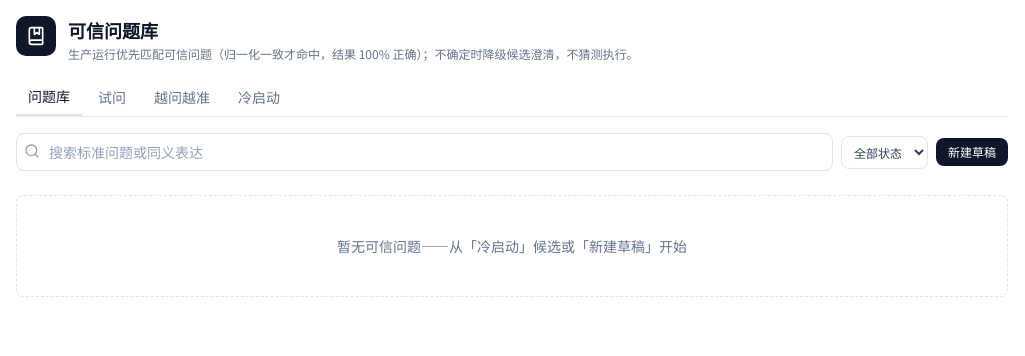
it: QuestionLibraryPage 可信问题库页 › 试问不确定时展示澄清候选，绝不自动执行
Click the button "试问" at coordinates (112, 97), box [86,78,138,116]
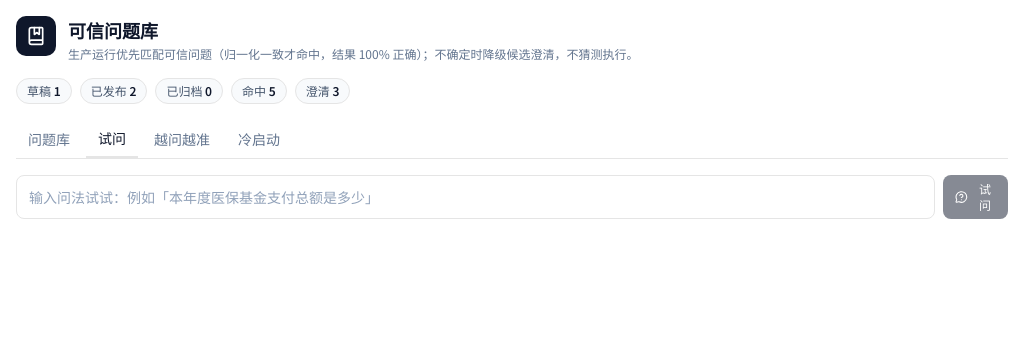
Expected: the field with test id "qlib-try-input" is shown
Type "医保基金支付总额" into the field with test id "qlib-try-input" at coordinates (476, 197), box [16,175,935,219]
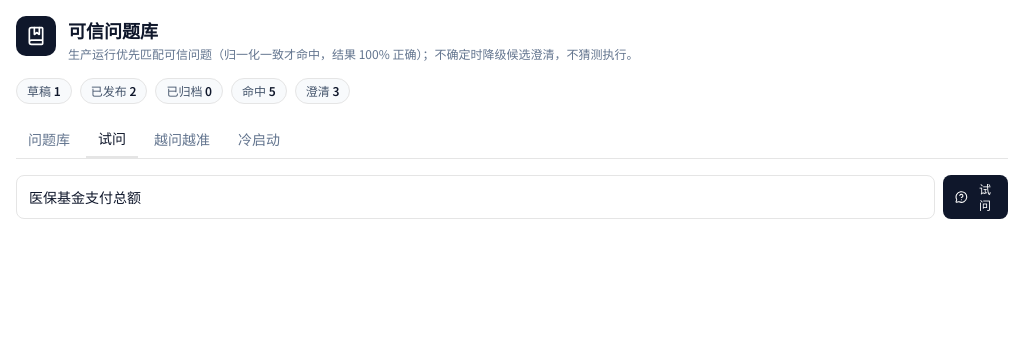
Click the button with test id "qlib-try-button" at coordinates (976, 197), box [943,175,1008,219]
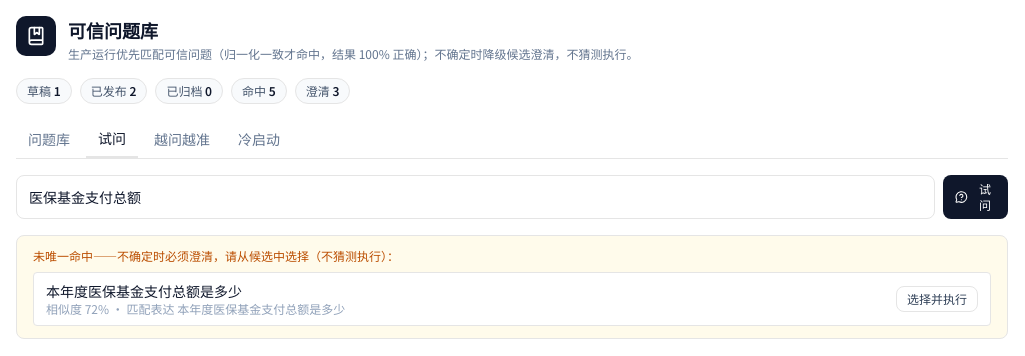
Expected: the element with test id "qlib-try-clarify" is shown, [16,235,1008,339]
Expected: the text "本年度医保基金支付总额是多少" is shown, [46,281,242,301]
